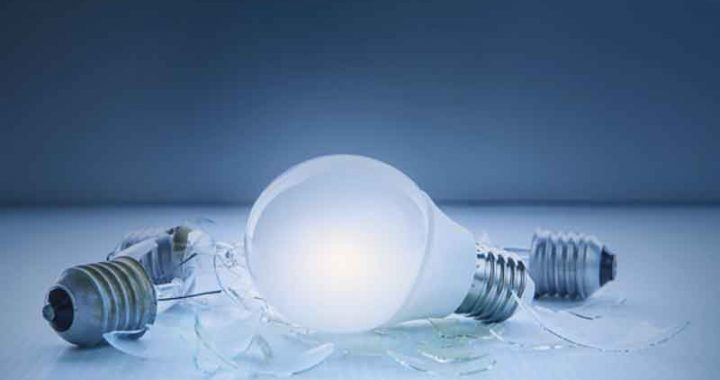Light_bulb: (237, 144, 545, 340)
